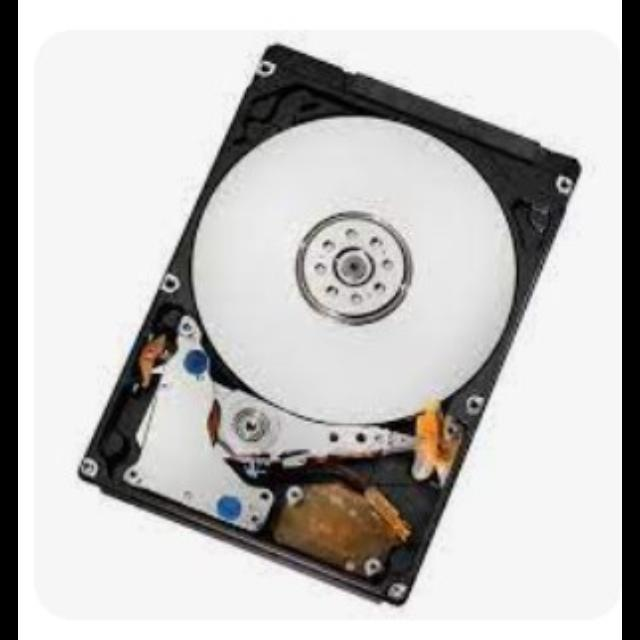HDD: (76, 44, 580, 608)
